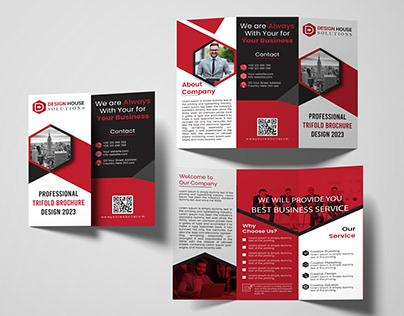paper: (172, 17, 364, 301), (28, 91, 155, 228)
